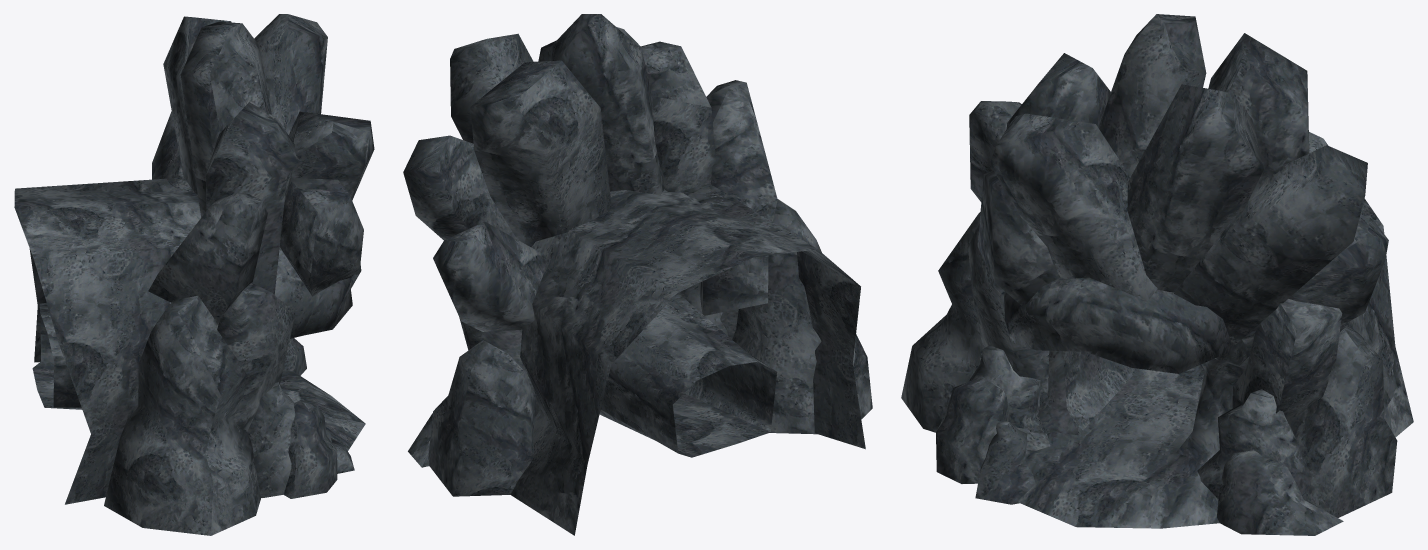
File: environment_stone_dongkou_001_a.FBX
The picture shows the model from 3 angles, left to right: view 1: azimuth 30°, elevation 25°; view 2: azimuth 150°, elevation 25°; view 3: azimuth 270°, elevation 25°; orthographic projection. The views are drawn at different scales.
Parts seen in each view (by area): view 1: environment_stone_dongkou_001_a; view 2: environment_stone_dongkou_001_a; view 3: environment_stone_dongkou_001_a.
Boxes of the visible parts, x1=… form: environment_stone_dongkou_001_a: x1=14, y1=14, x2=374, y2=535; environment_stone_dongkou_001_a: x1=403, y1=14, x2=872, y2=535; environment_stone_dongkou_001_a: x1=901, y1=14, x2=1413, y2=535.
Size of the model in its own units: 857 by 996 by 1010.
Materials: 1 (1 with a texture image).
